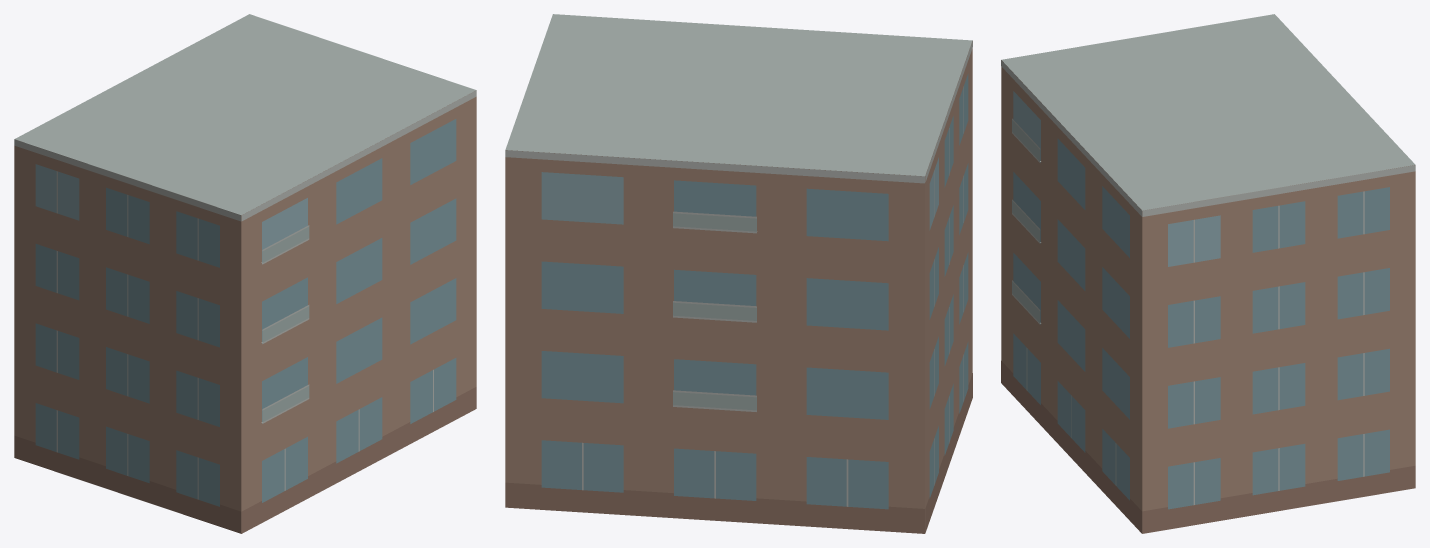
The model's file is residential-abb13875-858e-4ee2-80b1-09963f12a127.glb.
The picture shows the model from 3 angles, left to right: view 1: azimuth 30°, elevation 25°; view 2: azimuth 150°, elevation 25°; view 3: azimuth 270°, elevation 25°; orthographic projection. The views are drawn at different scales.
Visible parts, largest first — view 1: residential-abb13875-858e-4ee2-80b1-09963f12a127.tmp; view 2: residential-abb13875-858e-4ee2-80b1-09963f12a127.tmp; view 3: residential-abb13875-858e-4ee2-80b1-09963f12a127.tmp.
Part boxes in pixels (<box>): residential-abb13875-858e-4ee2-80b1-09963f12a127.tmp: <box>14,14,476,533</box>; residential-abb13875-858e-4ee2-80b1-09963f12a127.tmp: <box>505,14,972,533</box>; residential-abb13875-858e-4ee2-80b1-09963f12a127.tmp: <box>1001,14,1415,533</box>.
Size of the model in its own units: 15.92 by 12.2 by 14.18.
